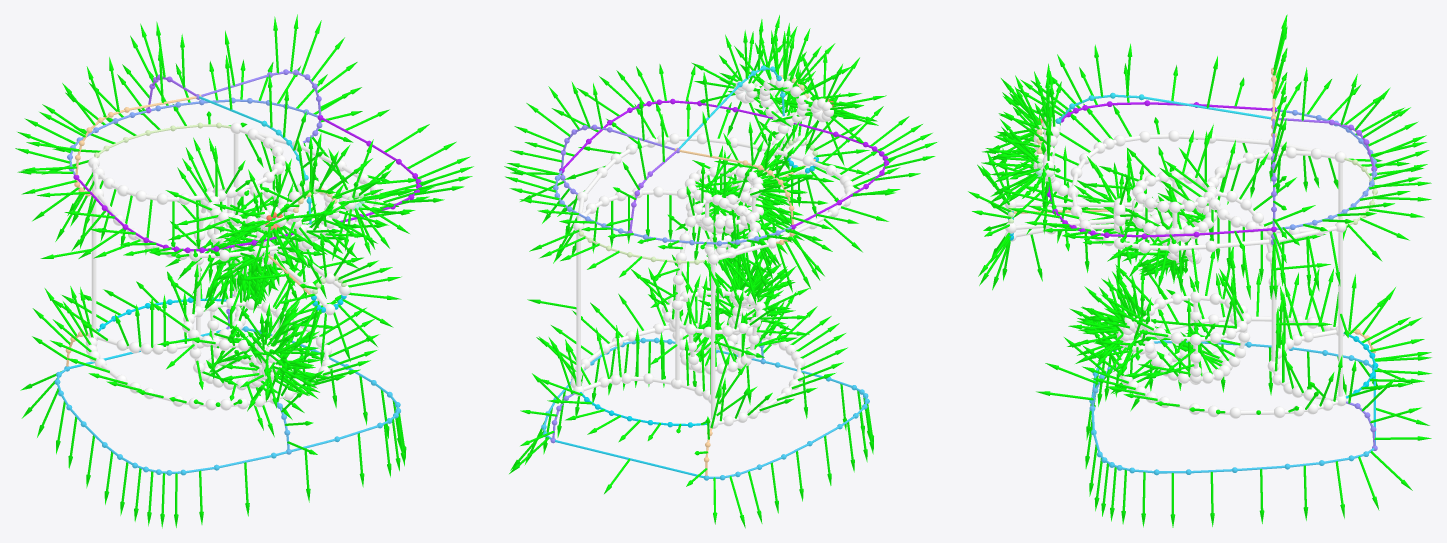
The model's file is flowsurf_expresso.gltf.
3 renders of one model, left to right at view 1: azimuth 30°, elevation 25°; view 2: azimuth 150°, elevation 25°; view 3: azimuth 270°, elevation 25°, orthographic. The views are drawn at different scales.
Size of the model in its own units: 0.7159 by 0.7795 by 0.7848.
